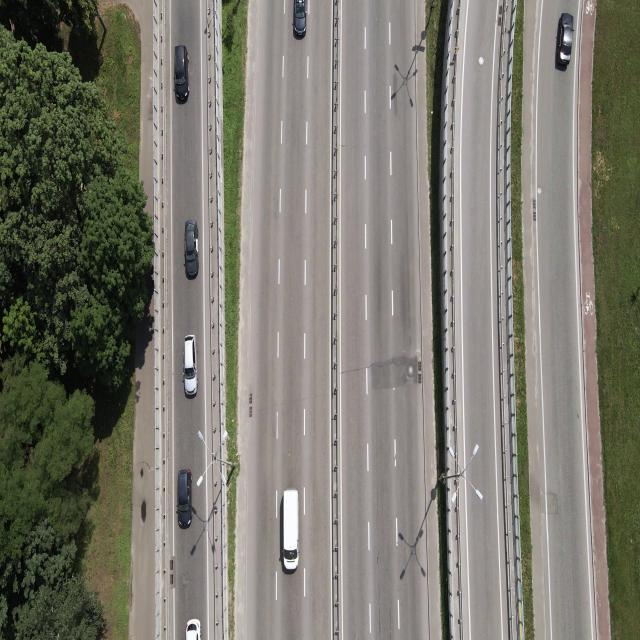vehicle: (282, 488, 300, 572), (173, 42, 190, 102), (183, 334, 198, 396), (177, 467, 192, 529), (557, 12, 574, 66), (184, 218, 199, 278), (293, 1, 307, 37), (186, 618, 202, 640)
